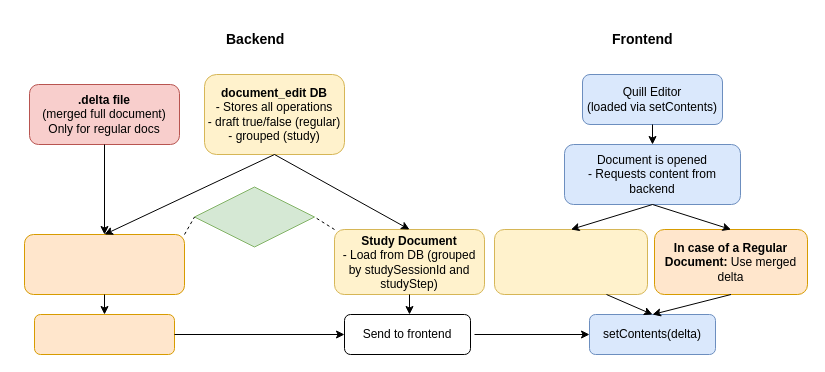
Image size: 825x372. Some labels were removed from this diagram. Here are the shapes that lost their labels. From the top down, the box of each, then its label:
(194, 186, 314, 247): Document Type?
(24, 234, 184, 294): Regular Document - Load .delta file - Load draft edits
(494, 228, 648, 294): In case of a Study Document: Convert DB edits → delta (dbToDelta)
(34, 314, 174, 354): Merge delta + draft
